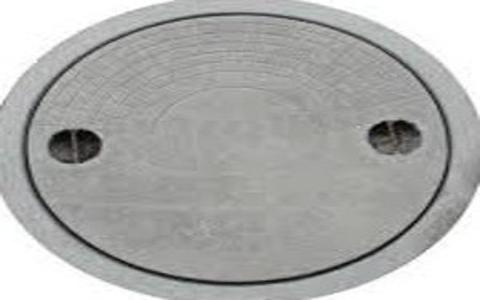proper manhole: (1, 1, 480, 298)
